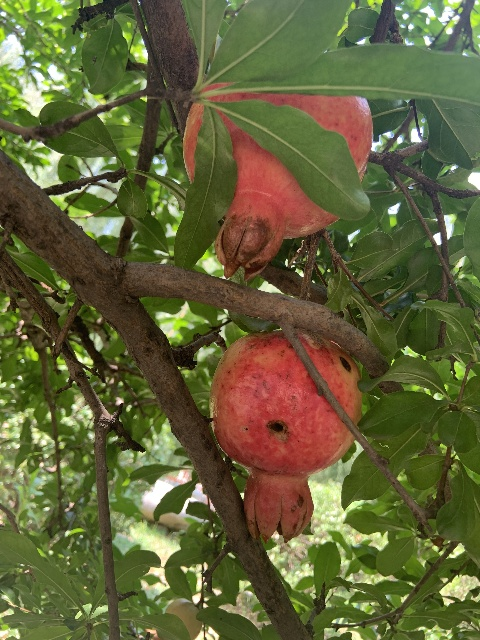ripe: (183, 82, 371, 279), (210, 330, 363, 543)
